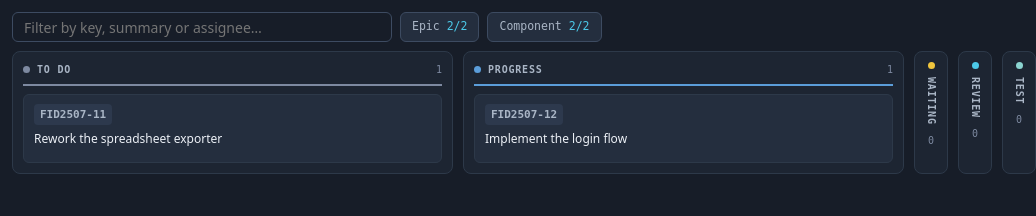
JiraBoard filtering › a filter that matches nothing says so instead of leaving five blank strips
This screenshot has width=1036, height=216.
Type "zzzz" into the search field with test id "jira-filter" at (202, 27), box x1=12 y1=12 x2=392 y2=42
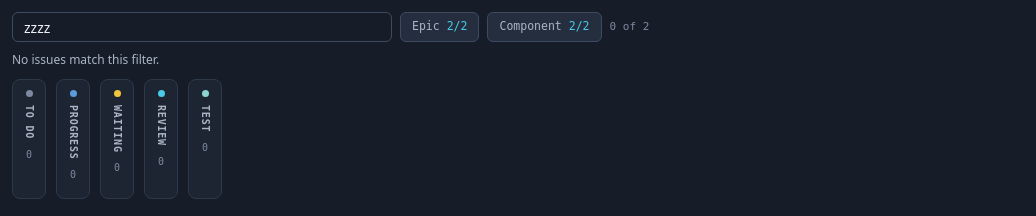
Result: the text "No issues match this filter." is shown at x1=12 y1=51 x2=159 y2=68
